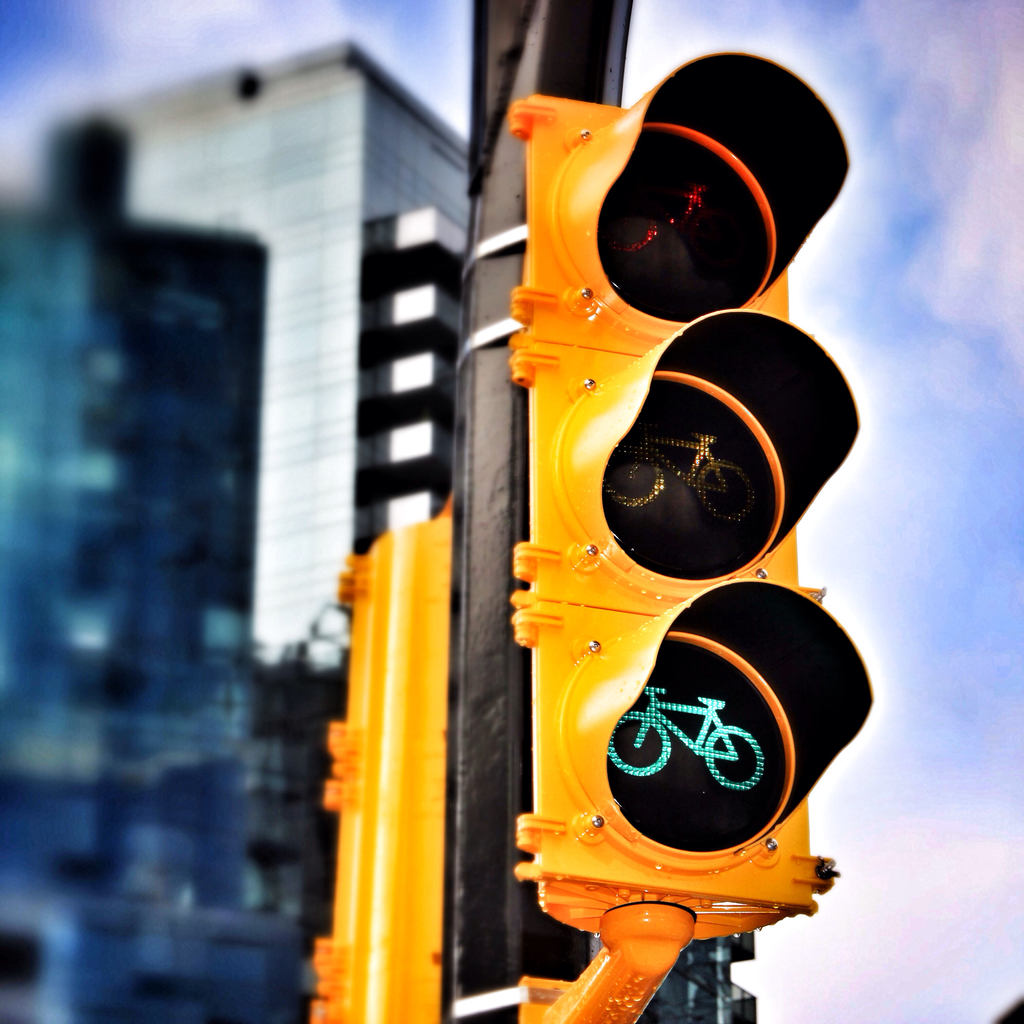cycle_route: (616, 680, 771, 794)
